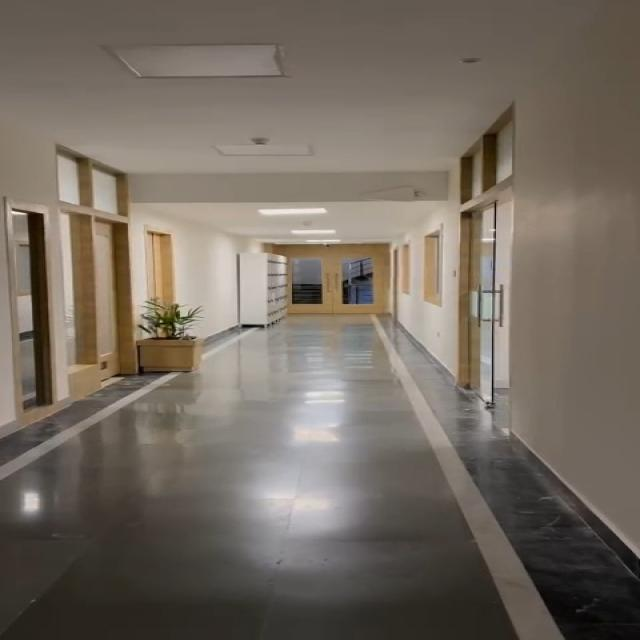door: (430, 145, 526, 412), (56, 147, 121, 374), (0, 201, 57, 410), (283, 236, 398, 311), (131, 222, 183, 306)
floor: (0, 427, 590, 640), (284, 304, 418, 441), (200, 331, 296, 431)
furniture: (131, 307, 198, 385)
wall: (518, 97, 640, 447), (390, 230, 462, 336), (177, 216, 240, 325)
